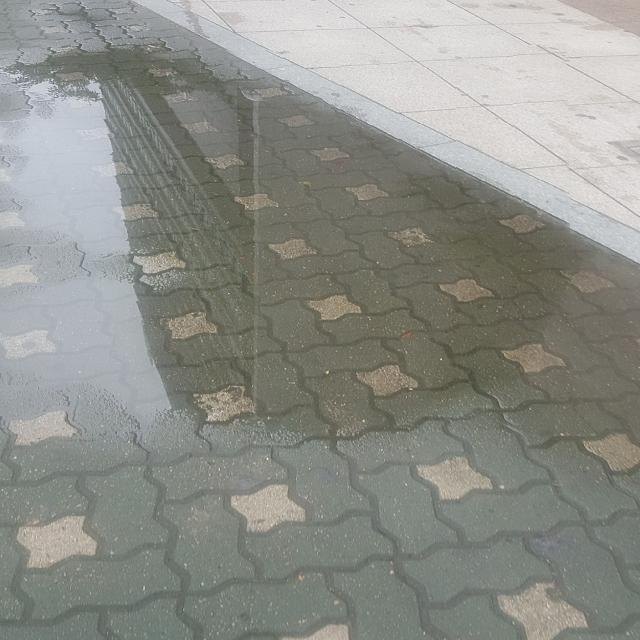puddle: (1, 48, 574, 433)
